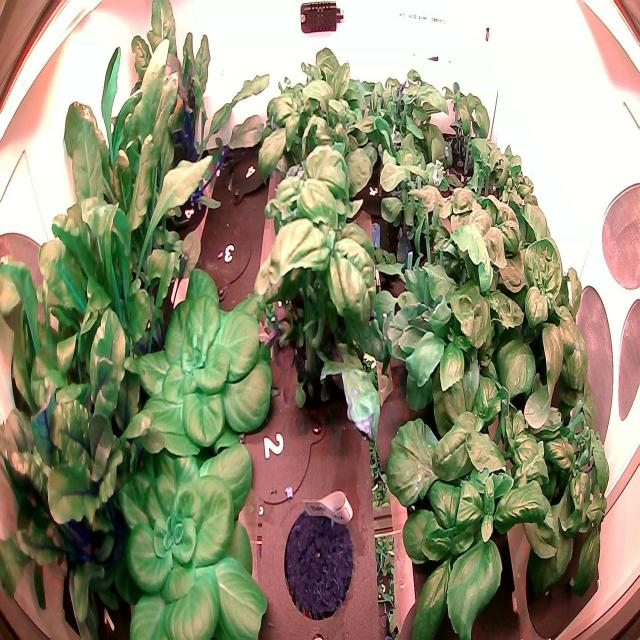empty_pod: (197, 209, 260, 300), (220, 129, 279, 208)
pod: (280, 493, 362, 629)
young: (108, 423, 281, 639), (119, 268, 281, 470)
